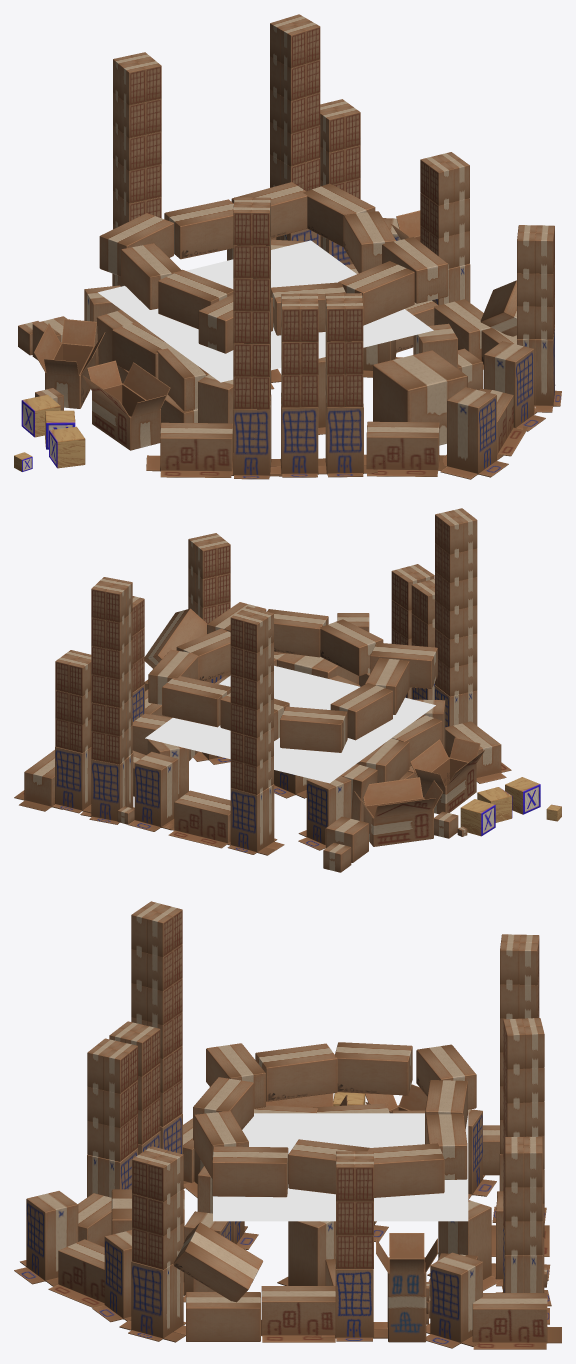
Rendered from S4_refined.fbx.
3 views of the same model, one above another, from view 1: azimuth 30°, elevation 25°; view 2: azimuth 150°, elevation 25°; view 3: azimuth 270°, elevation 25° (orthographic). The views are drawn at different scales.
Visible parts, largest first — view 1: Square_Cardboard_Box_low; view 2: Square_Cardboard_Box_low; view 3: Square_Cardboard_Box_low.
Boxes of the visible parts, x1,y1,x2,y2 form: Square_Cardboard_Box_low: (14,14,561,479); Square_Cardboard_Box_low: (14,508,561,872); Square_Cardboard_Box_low: (14,901,561,1349).
Bounding box in the file's own units: 15651 × 8030 × 14344.
